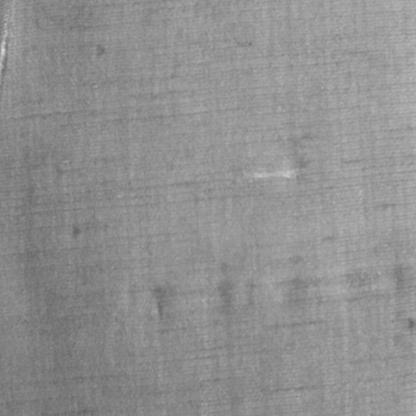thread error: (150, 257, 415, 335), (232, 134, 310, 187), (0, 0, 16, 100)
